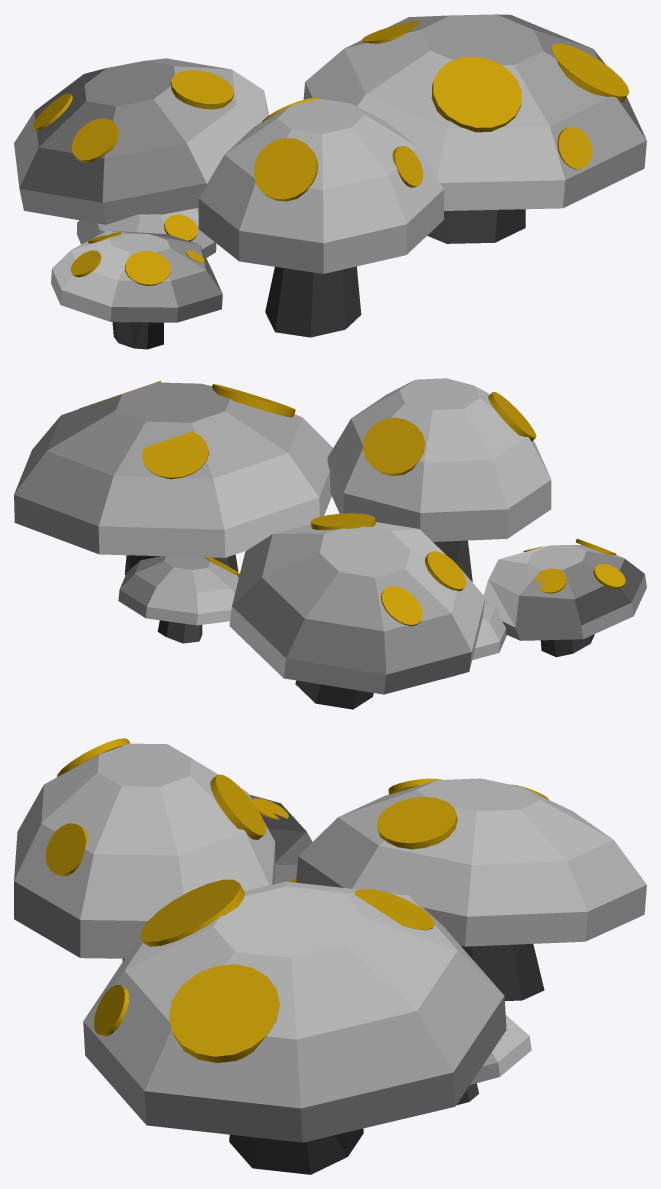
File: GrowableMushroom.fbx
3 views of the same model, one above another, from view 1: azimuth 30°, elevation 25°; view 2: azimuth 150°, elevation 25°; view 3: azimuth 270°, elevation 25° (orthographic). The views are drawn at different scales.
Visible parts, largest first — view 1: mushroom, Object003, Cylinder002, Cylinder001, Cylinder004, Object001, Cylinder013, Cylinder014, Cylinder006, Cylinder005, Cylinder003, Cylinder017 (+3 smaller); view 2: mushroom, Object003, Object002, Cylinder011, Cylinder008, Object001, Cylinder015, Cylinder014, Cylinder002, Cylinder001, Cylinder013, Cylinder012 (+1 smaller); view 3: mushroom, Object003, Cylinder004, Cylinder002, Cylinder013, Object002, Cylinder011, Cylinder003, Cylinder008, Cylinder005, Cylinder001.
Part boxes in pixels (box(x1,y1,x2,y2)): mushroom: box(14, 14, 646, 349); Object003: box(198, 99, 443, 337); Cylinder002: box(431, 57, 521, 132); Cylinder001: box(254, 138, 317, 201); Cylinder004: box(551, 43, 629, 102); Object001: box(76, 208, 216, 257); Cylinder013: box(170, 70, 233, 109); Cylinder014: box(71, 118, 118, 162); Cylinder006: box(125, 251, 170, 285); Cylinder005: box(557, 127, 592, 169); Cylinder003: box(392, 146, 423, 187); Cylinder017: box(164, 214, 197, 241); mushroom: box(14, 382, 646, 709); Object003: box(327, 378, 551, 581); Object002: box(118, 556, 238, 643); Cylinder011: box(363, 417, 425, 475); Cylinder008: box(142, 431, 208, 479); Object001: box(443, 602, 506, 678); Cylinder015: box(381, 586, 422, 626); Cylinder014: box(425, 551, 465, 591); Cylinder002: box(212, 384, 295, 417); Cylinder001: box(488, 392, 536, 441); Cylinder013: box(311, 513, 375, 530); Cylinder012: box(535, 568, 566, 593); mushroom: box(83, 778, 646, 1174); Object003: box(14, 743, 275, 961); Cylinder004: box(169, 964, 279, 1062); Cylinder002: box(141, 879, 244, 946); Cylinder013: box(377, 796, 457, 849); Object002: box(456, 1015, 531, 1105); Cylinder011: box(210, 774, 266, 839); Cylinder003: box(45, 823, 87, 875); Cylinder008: box(354, 888, 434, 930); Cylinder005: box(94, 985, 129, 1036); Cylinder001: box(56, 738, 130, 777).
Bounding box in the file's own units: 40.67 × 14.08 × 30.25.
